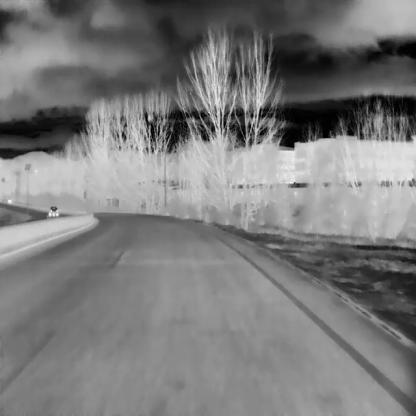car: (47, 205, 58, 216)
